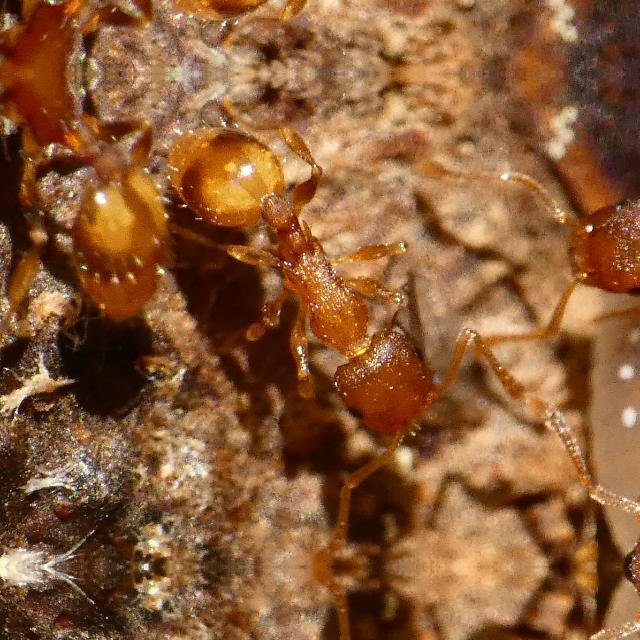Temnothorax: (155, 94, 518, 470), (0, 72, 208, 338), (465, 138, 639, 346), (0, 0, 208, 72)
